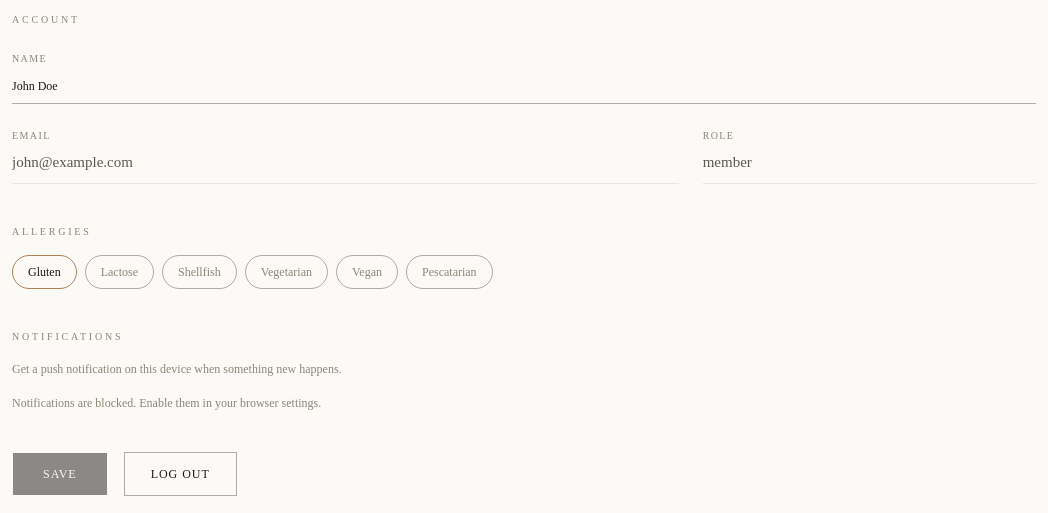
Test: ProfileForm Component › disables the save button until something changes
Expected: the button "Save" is disabled, x1=12 y1=452 x2=108 y2=496
Replace the text in the field labelled "Name" with "Jane Doe". click: [524, 89]
box: x1=12 y1=74 x2=1036 y2=104
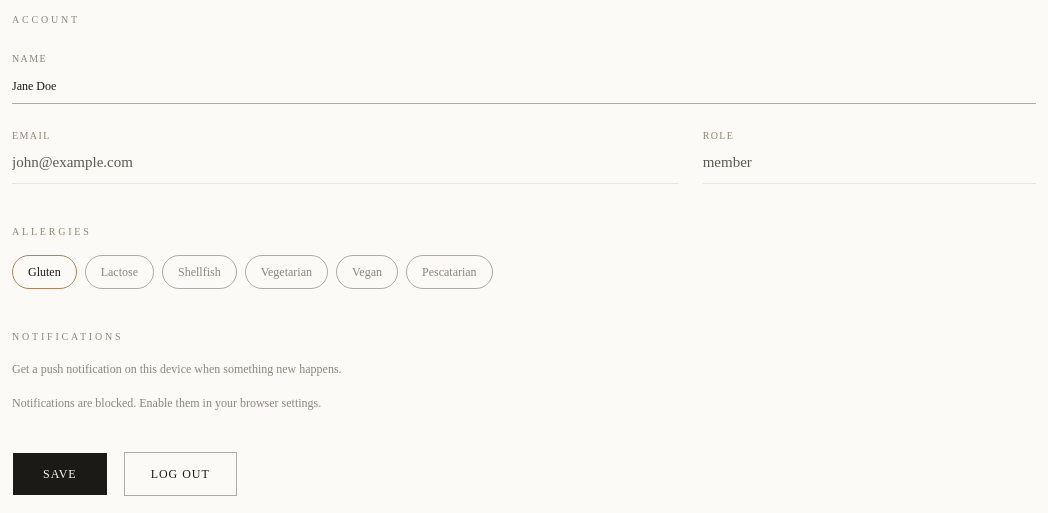
Now the button "Save" is enabled, box x1=12 y1=452 x2=108 y2=496
